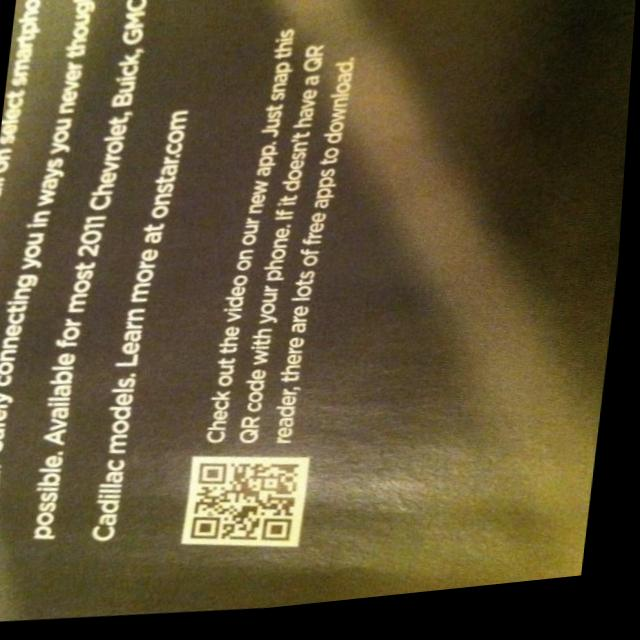qrcode: (198, 460, 309, 557)
